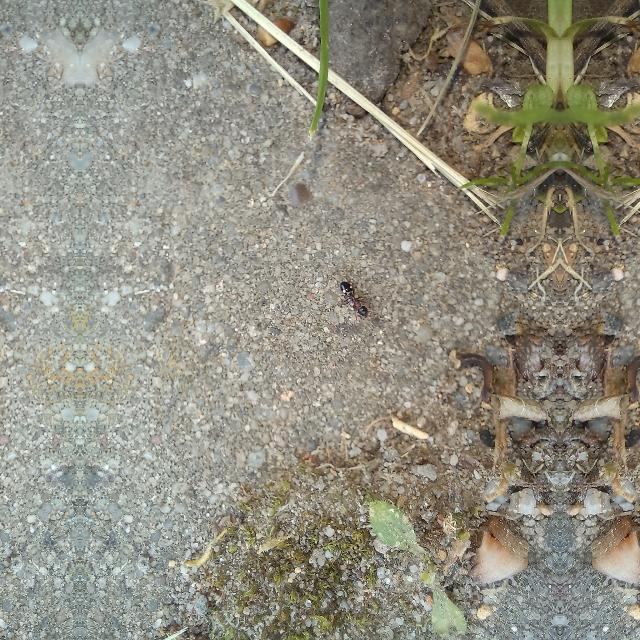Dolichoderus: (333, 270, 372, 322)
